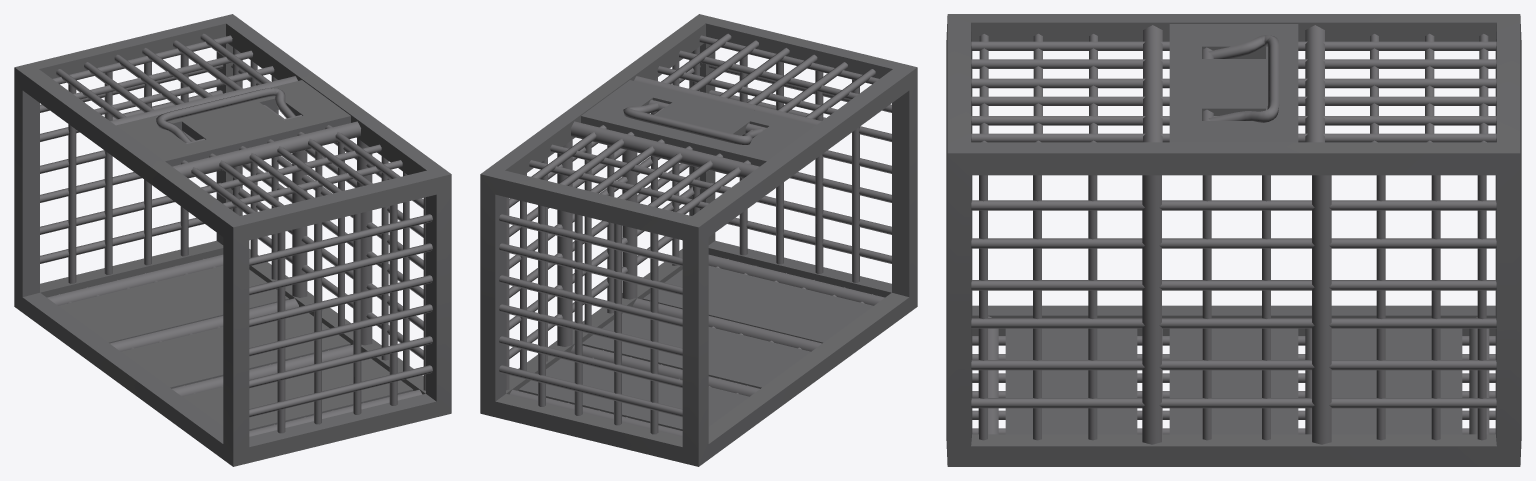
File: SM_TimeoutCage_v03_CageMain.obj
3 views of the same model, side by side, from view 1: azimuth 30°, elevation 25°; view 2: azimuth 150°, elevation 25°; view 3: azimuth 270°, elevation 25° (orthographic). The views are drawn at different scales.
Visible parts, largest first — view 1: SM_TimeoutCage_v03_CageMain_Mat_SwatchOverlay_PolygonTown_01_Ins; view 2: SM_TimeoutCage_v03_CageMain_Mat_SwatchOverlay_PolygonTown_01_Ins; view 3: SM_TimeoutCage_v03_CageMain_Mat_SwatchOverlay_PolygonTown_01_Ins.
Part boxes in pixels (x1,y1,x2,y2): SM_TimeoutCage_v03_CageMain_Mat_SwatchOverlay_PolygonTown_01_Ins: [14, 14, 451, 466]; SM_TimeoutCage_v03_CageMain_Mat_SwatchOverlay_PolygonTown_01_Ins: [480, 14, 917, 466]; SM_TimeoutCage_v03_CageMain_Mat_SwatchOverlay_PolygonTown_01_Ins: [946, 14, 1521, 466].
Bounding box in the file's own units: 1.89 × 2.05 × 3.27.
1 material, 1 textured.
